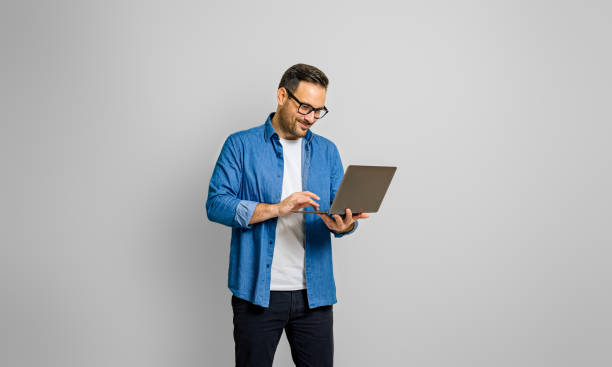Male: (202, 63, 402, 367)
